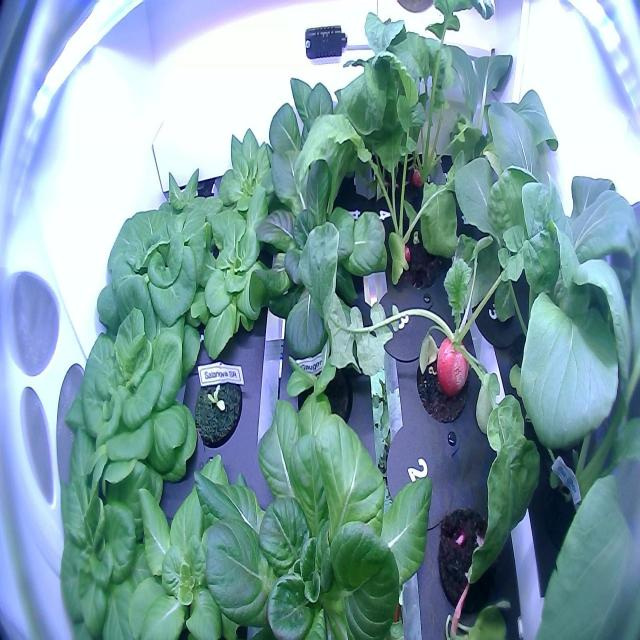germination: (190, 352, 248, 452)
young: (187, 374, 437, 640), (56, 275, 205, 518), (44, 426, 200, 639), (242, 153, 392, 371), (125, 452, 273, 639), (92, 185, 225, 370), (253, 55, 379, 222), (183, 177, 292, 360), (213, 122, 298, 230), (154, 160, 214, 237)
